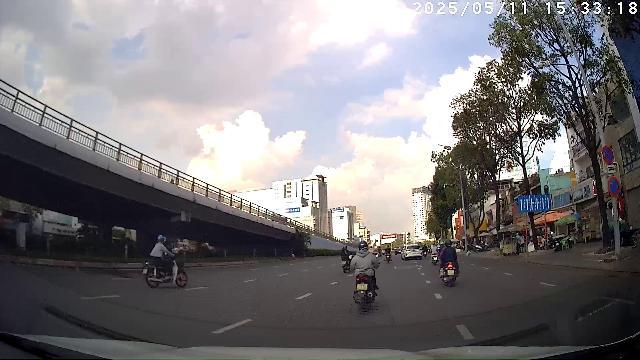130-cam-dung-va-do-xe: (602, 145, 614, 165)
131a-cam-do-xe: (608, 176, 620, 197)
